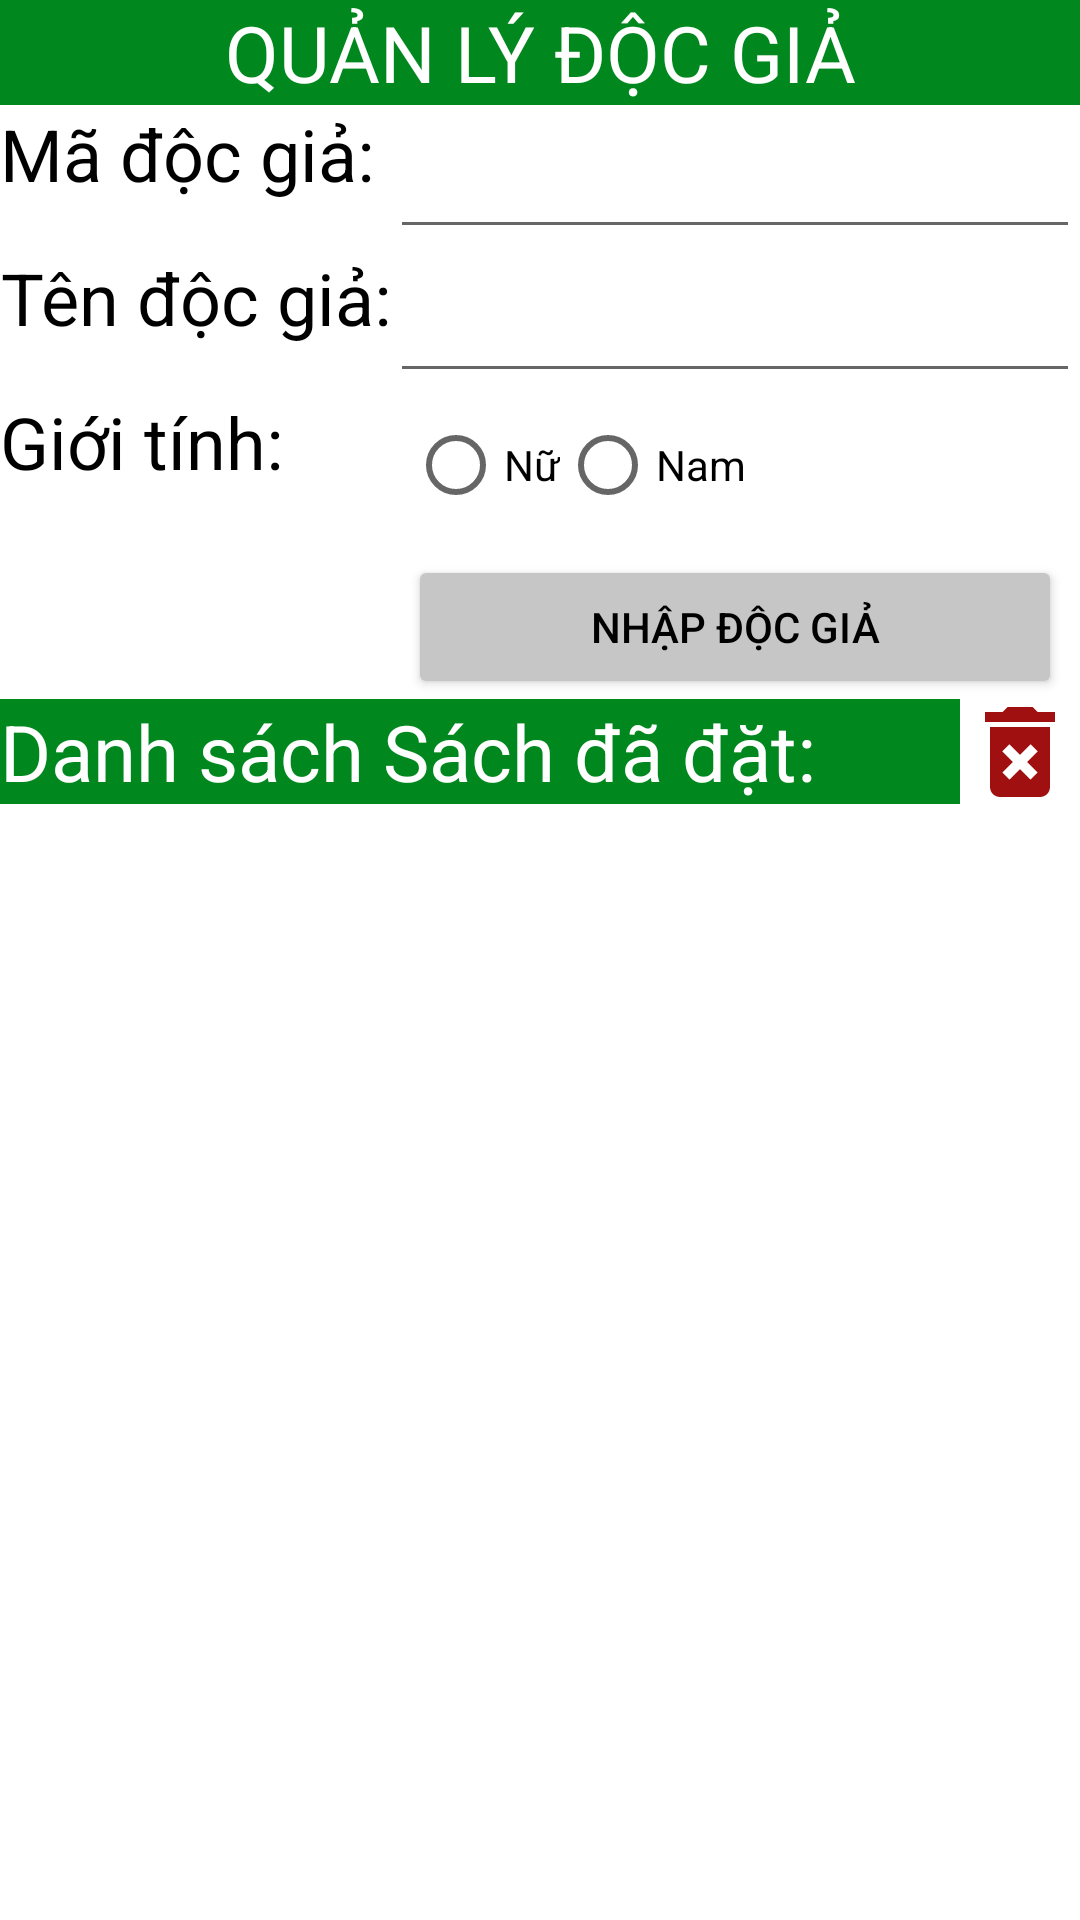

Point at icon controls on the screen. Image size 1080 × 1920, points as (x,y).
delete forever: (1020,752)
